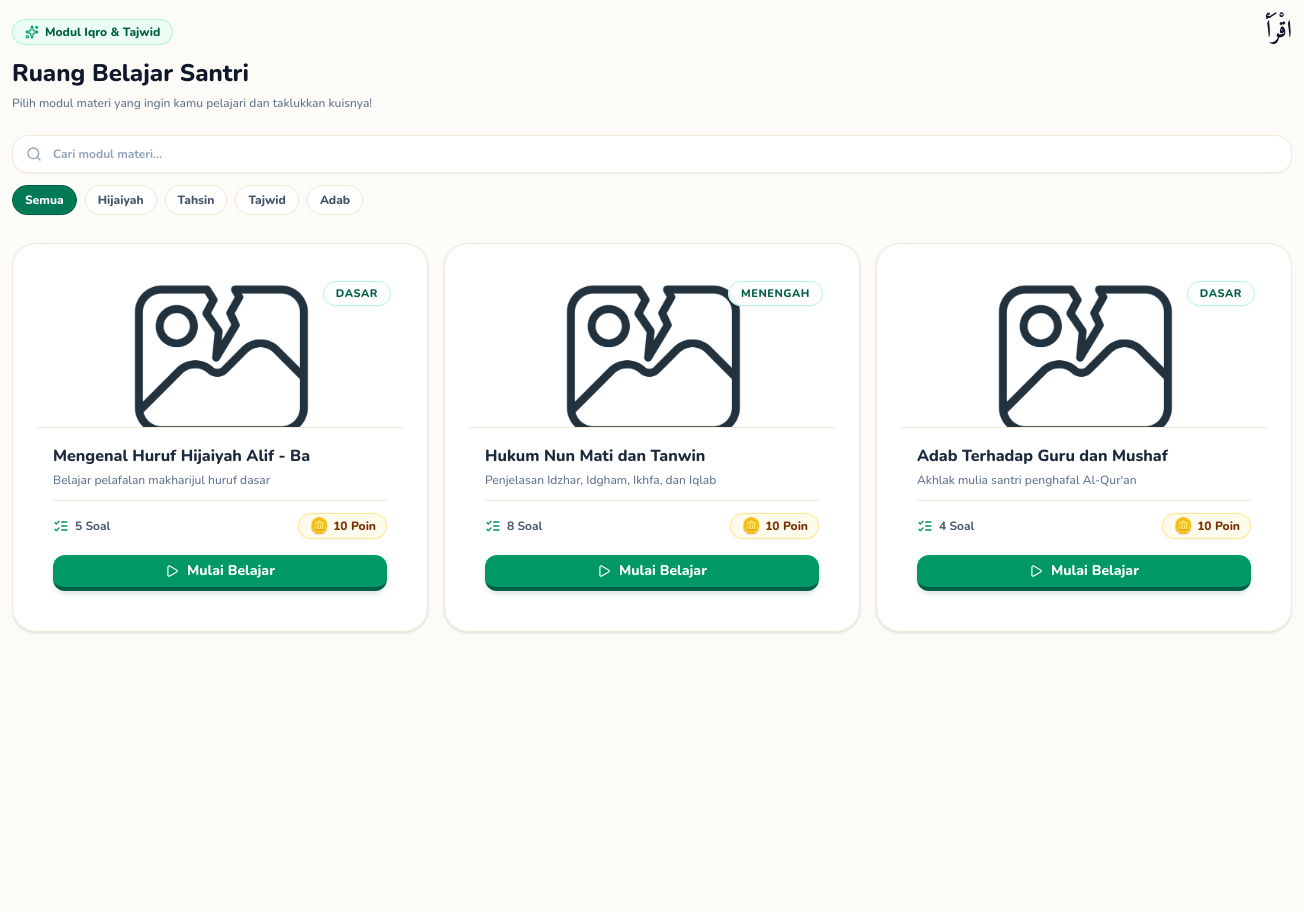
Test: CoursesPage Interactive Filtering › filters courses when clicking category chip
Expected: the heading "Mengenal Huruf Hijaiyah Alif - Ba" is shown, [53,445,310,467]
Click the button "Tajwid" at (267, 200), box [235,185,299,215]
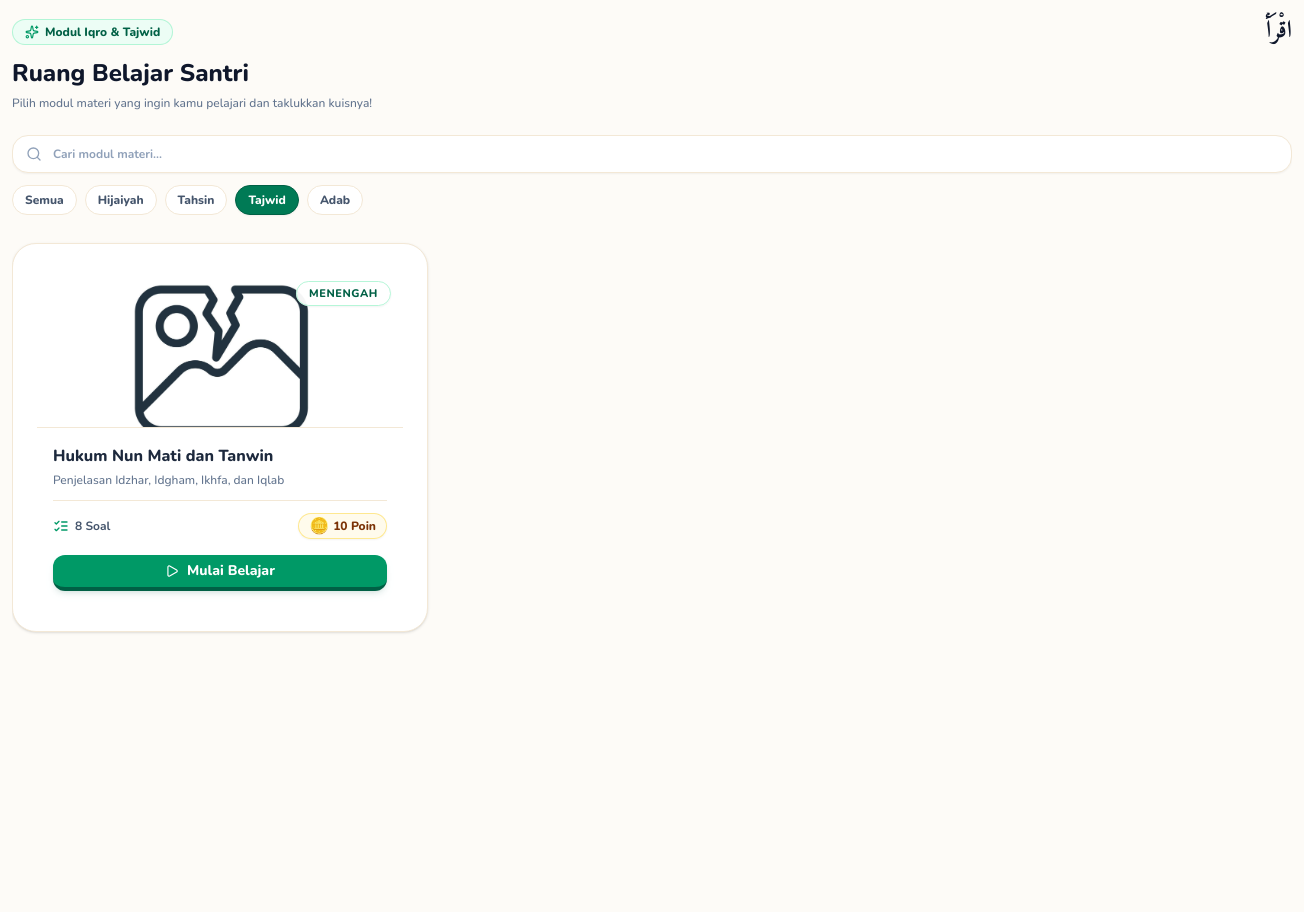
Expected: the heading "Hukum Nun Mati dan Tanwin" is shown, [53,445,273,467]
Result: the heading "Mengenal Huruf Hijaiyah Alif - Ba" is gone
Result: the heading "Adab Terhadap Guru dan Mushaf" is gone
